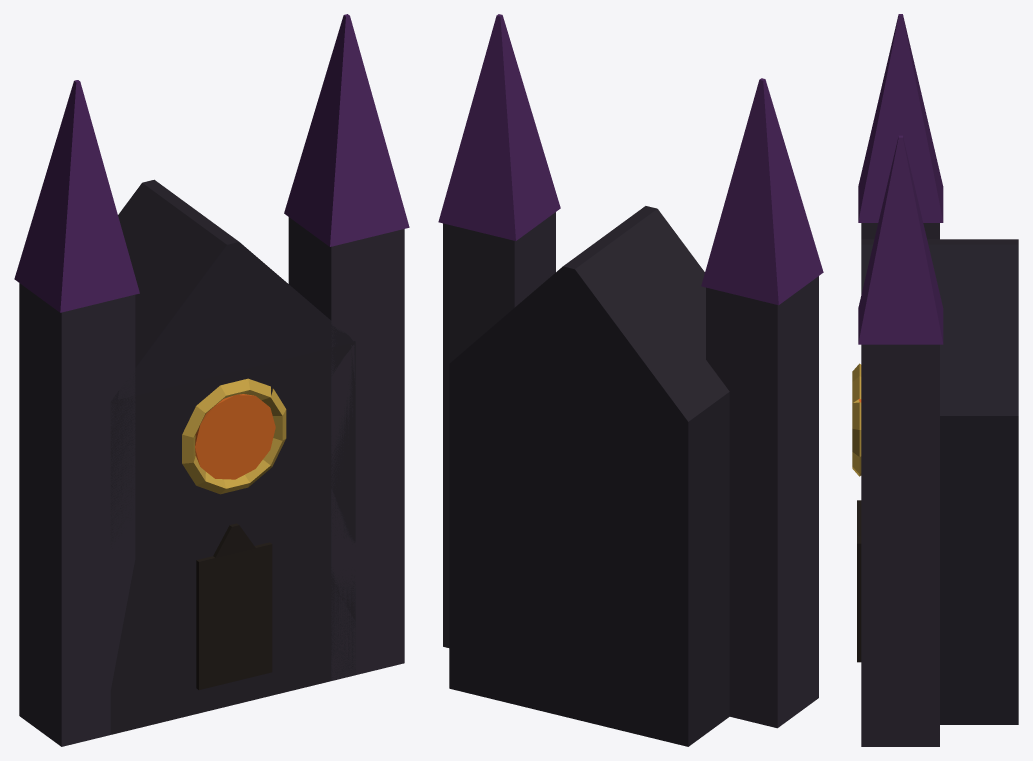
File: demon_landmark_broken.glb
3 renders of one model, left to right at view 1: azimuth 30°, elevation 25°; view 2: azimuth 150°, elevation 25°; view 3: azimuth 270°, elevation 25°, orthographic. The views are drawn at different scales.
Visible parts, largest first — view 1: demon_landmark_piece1, demon_landmark_piece0, demon_landmark_piece7, demon_landmark_piece5, demon_landmark_piece3, demon_landmark_piece13, demon_landmark_piece9, demon_landmark_piece6, demon_landmark_piece11, demon_landmark_piece4, demon_landmark_piece12, demon_landmark_piece2; view 2: demon_landmark_piece1, demon_landmark_piece6, demon_landmark_piece7, demon_landmark_piece10, demon_landmark_piece4, demon_landmark_piece5, demon_landmark_piece0, demon_landmark_piece8, demon_landmark_piece2; view 3: demon_landmark_piece4, demon_landmark_piece8, demon_landmark_piece5, demon_landmark_piece7, demon_landmark_piece6, demon_landmark_piece11, demon_landmark_piece9, demon_landmark_piece2, demon_landmark_piece0, demon_landmark_piece13, demon_landmark_piece1.
Part boxes in pixels (box(x1,y1,x2,y2)): demon_landmark_piece1: box(19, 278, 182, 746); demon_landmark_piece0: box(102, 403, 326, 736); demon_landmark_piece7: box(14, 80, 137, 394); demon_landmark_piece5: box(284, 14, 409, 345); demon_landmark_piece3: box(207, 246, 370, 557); demon_landmark_piece13: box(175, 348, 383, 681); demon_landmark_piece9: box(188, 271, 367, 551); demon_landmark_piece6: box(118, 179, 221, 487); demon_landmark_piece11: box(351, 255, 404, 499); demon_landmark_piece4: box(365, 480, 404, 668); demon_landmark_piece12: box(312, 550, 380, 661); demon_landmark_piece2: box(212, 202, 345, 311); demon_landmark_piece1: box(632, 267, 818, 728); demon_landmark_piece6: box(486, 215, 700, 562); demon_landmark_piece7: box(624, 78, 823, 441); demon_landmark_piece10: box(544, 517, 740, 746); demon_landmark_piece4: box(443, 351, 533, 697); demon_landmark_piece5: box(464, 14, 549, 366); demon_landmark_piece0: box(488, 594, 583, 720); demon_landmark_piece8: box(438, 131, 472, 380); demon_landmark_piece2: box(525, 171, 663, 613); demon_landmark_piece4: box(861, 394, 1018, 746); demon_landmark_piece8: box(861, 253, 1017, 576); demon_landmark_piece5: box(858, 135, 1018, 413); demon_landmark_piece7: box(858, 14, 943, 239); demon_landmark_piece6: box(927, 239, 1018, 359); demon_landmark_piece11: box(861, 368, 987, 524); demon_landmark_piece9: box(852, 363, 861, 474); demon_landmark_piece2: box(858, 239, 962, 327); demon_landmark_piece0: box(857, 500, 861, 662); demon_landmark_piece13: box(852, 467, 861, 584); demon_landmark_piece1: box(858, 215, 877, 239).
Size of the model in its own units: 2.85 by 5 by 1.27.
